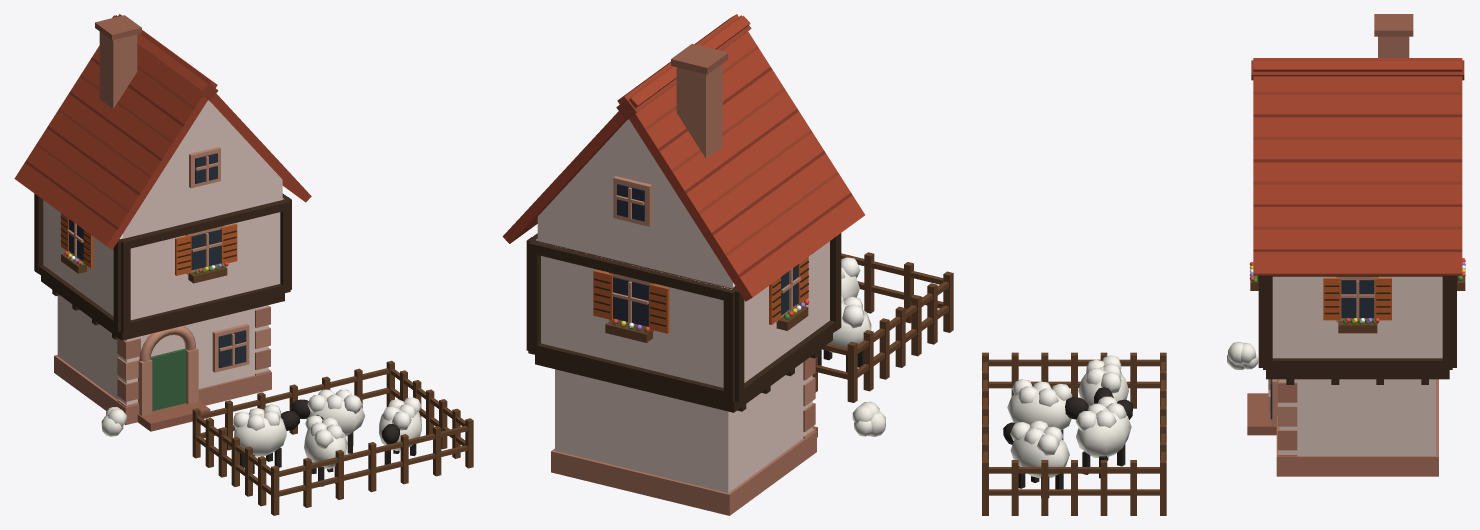
File: schaefer.glb
The picture shows the model from 3 angles, left to right: view 1: azimuth 30°, elevation 25°; view 2: azimuth 150°, elevation 25°; view 3: azimuth 270°, elevation 25°; orthographic projection. The views are drawn at different scales.
Bounding box in the file's own units: 3.44 × 4.49 × 4.95.
